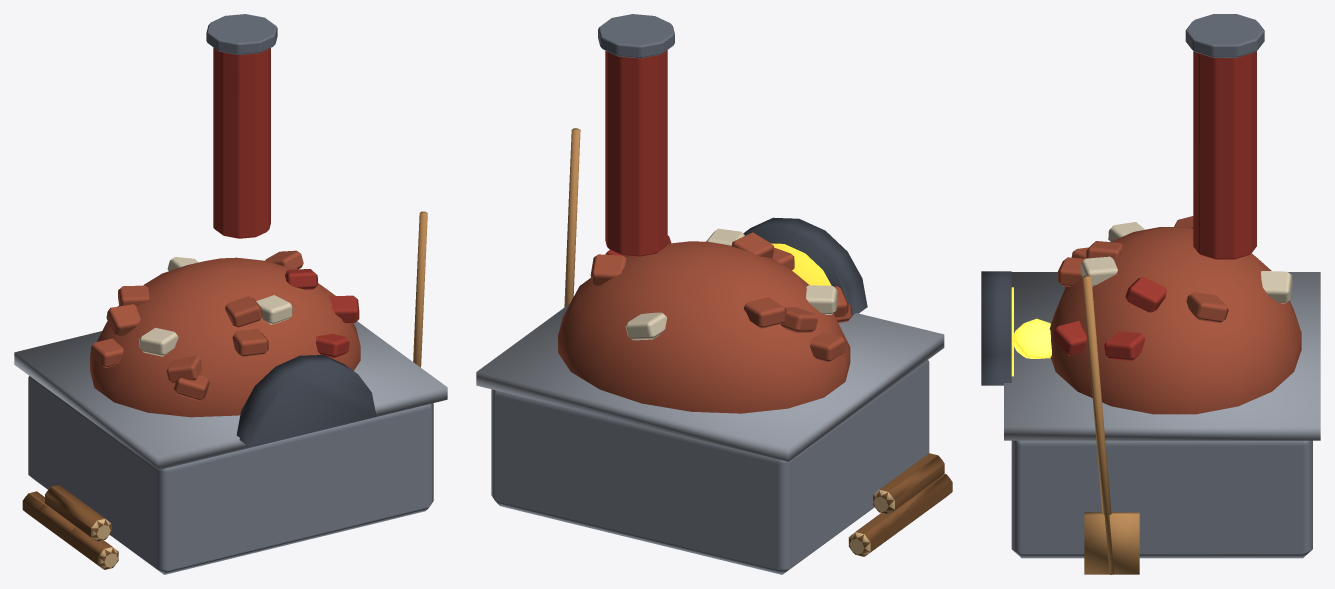
File: bread_oven.glb
3 renders of one model, left to right at view 1: azimuth 30°, elevation 25°; view 2: azimuth 150°, elevation 25°; view 3: azimuth 270°, elevation 25°, orthographic. The views are drawn at different scales.
Parts seen in each view (by area): view 1: bread_oven; view 2: bread_oven; view 3: bread_oven.
Boxes of the visible parts, bbox=[...] form: bread_oven: bbox=[14, 14, 447, 574]; bread_oven: bbox=[476, 14, 952, 574]; bread_oven: bbox=[981, 14, 1320, 574].
Bounding box in the file's own units: 1.72 × 2.11 × 1.35.
